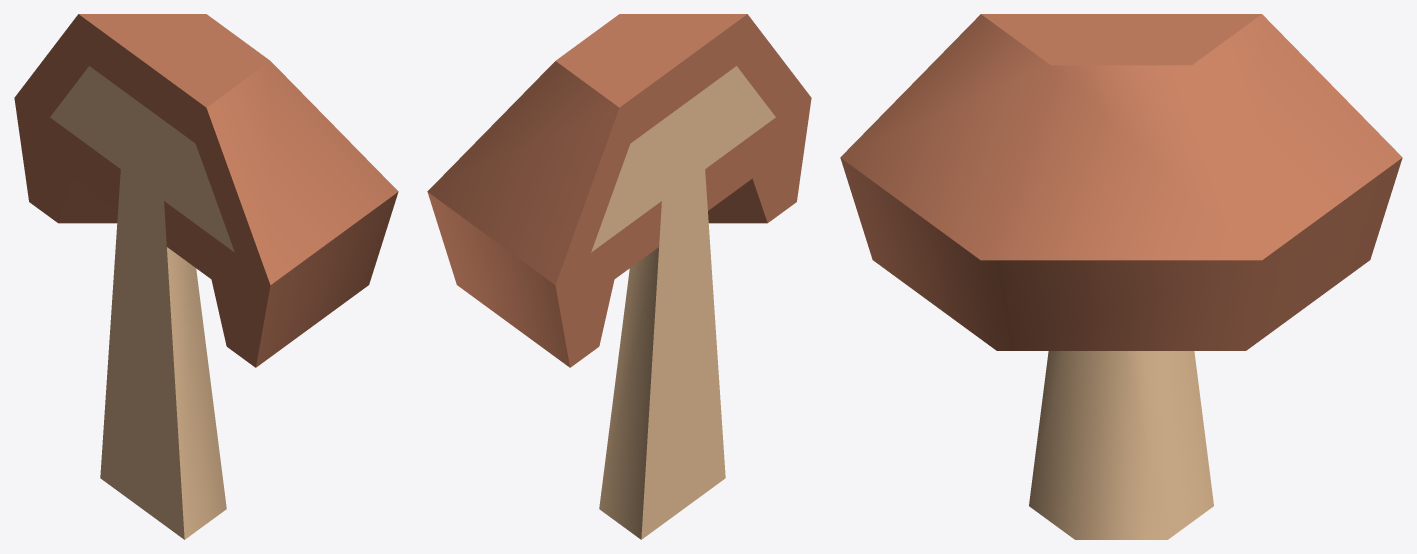
Rendered from mushroomHalf.GLB.
3 renders of one model, left to right at view 1: azimuth 30°, elevation 25°; view 2: azimuth 150°, elevation 25°; view 3: azimuth 270°, elevation 25°, orthographic. The views are drawn at different scales.
Visible parts, largest first — view 1: mushroomHalf; view 2: mushroomHalf; view 3: mushroomHalf.
Part boxes in pixels (x1,y1,x2,y2): mushroomHalf: [14, 14, 398, 539]; mushroomHalf: [427, 14, 811, 539]; mushroomHalf: [840, 14, 1402, 539].
Bounding box in the file's own units: 0.0624 × 0.1392 × 0.1442.
